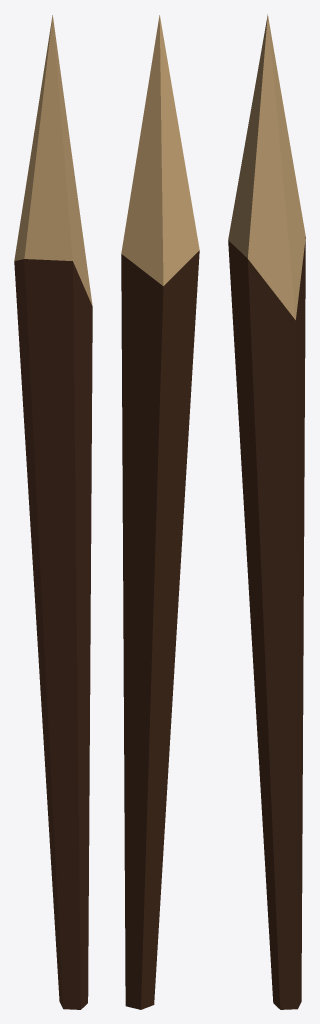
The model's file is WoodenSpike_3.fbx.
3 views of the same model, side by side, from view 1: azimuth 30°, elevation 25°; view 2: azimuth 150°, elevation 25°; view 3: azimuth 330°, elevation 25° (orthographic).
Visible parts, largest first — view 1: WoodenSpike_3; view 2: WoodenSpike_3; view 3: WoodenSpike_3.
Part boxes in pixels (box(x1,y1,x2,y2)): WoodenSpike_3: box(14, 15, 92, 1009); WoodenSpike_3: box(121, 15, 199, 1009); WoodenSpike_3: box(228, 14, 305, 1009).
Bounding box in the file's own units: 9.74 × 135 × 9.26.
